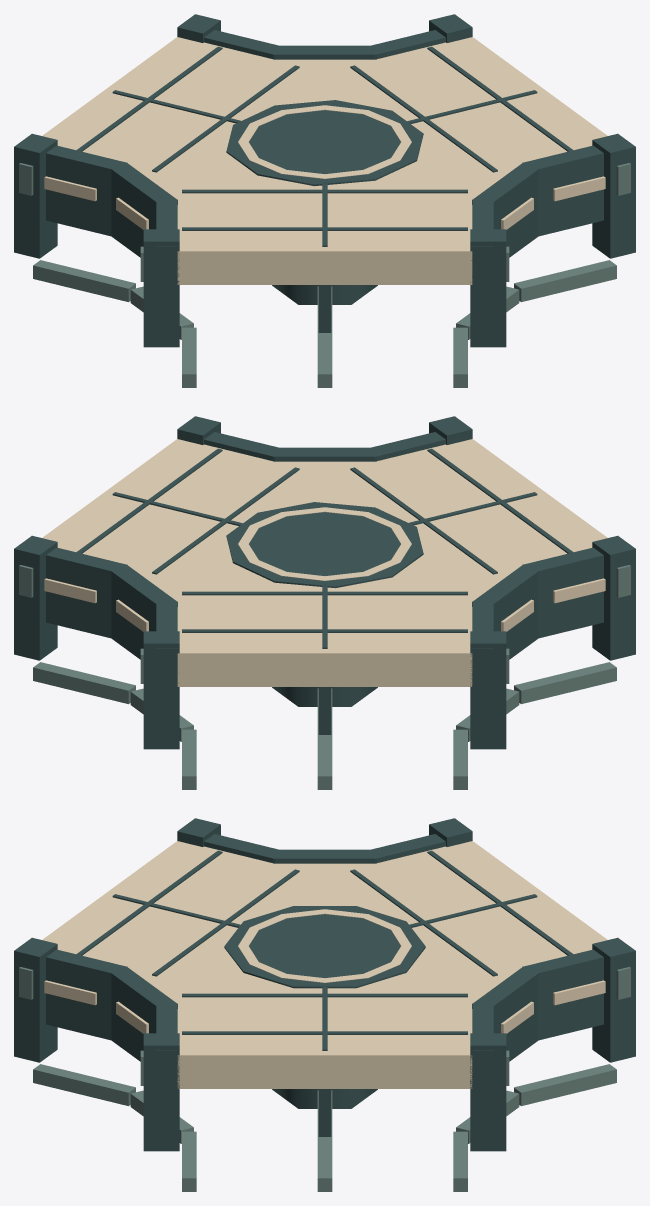
File: Junction_Y_lab2.glb
3 renders of one model, top to bottom at view 1: azimuth 30°, elevation 25°; view 2: azimuth 150°, elevation 25°; view 3: azimuth 270°, elevation 25°, orthographic.
Visible parts, largest first — view 1: Junction_Y; view 2: Junction_Y; view 3: Junction_Y.
Part boxes in pixels (<box>): Junction_Y: <box>14,14,635,387</box>; Junction_Y: <box>14,416,635,789</box>; Junction_Y: <box>14,818,635,1191</box>.
Size of the model in its own units: 5.09 by 1.58 by 5.87.
